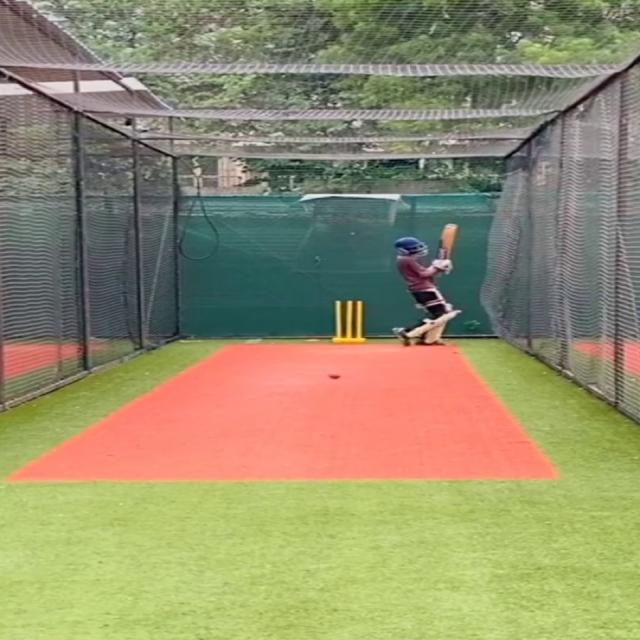ball: (327, 371, 341, 380)
stump: (330, 299, 365, 344)
